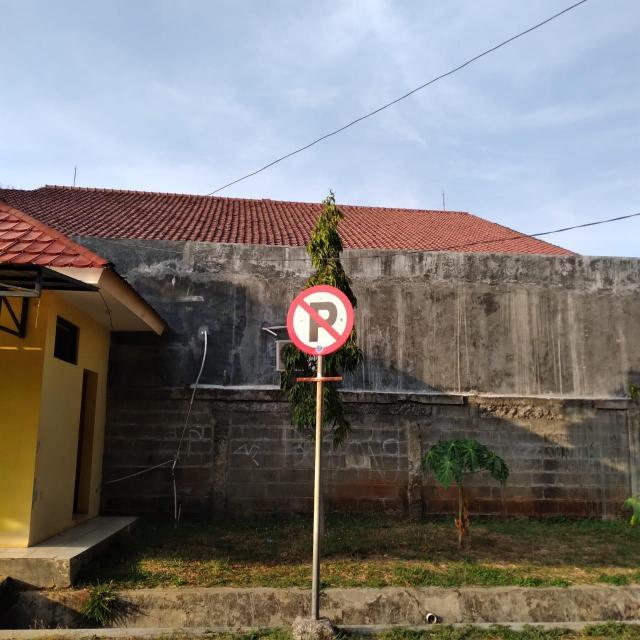traffic sign: (284, 285, 353, 354)
